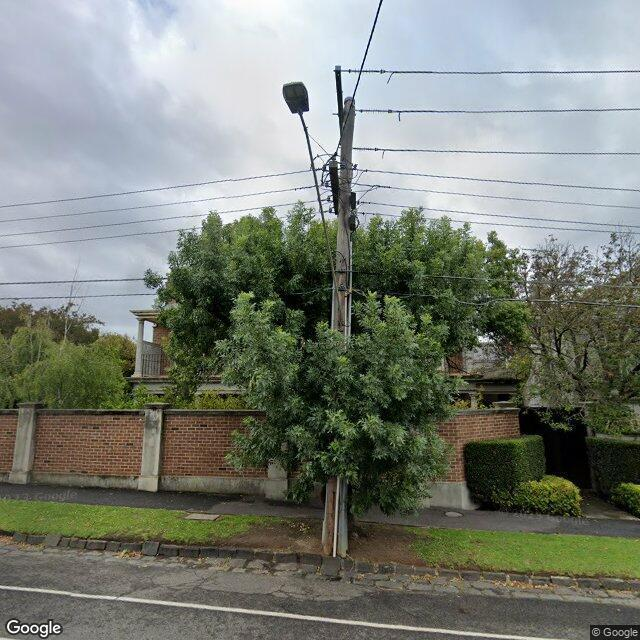crossarm: (322, 160, 372, 215), (334, 66, 344, 140)
streetlight: (282, 82, 344, 332)
timber-pole: (320, 96, 356, 554)
